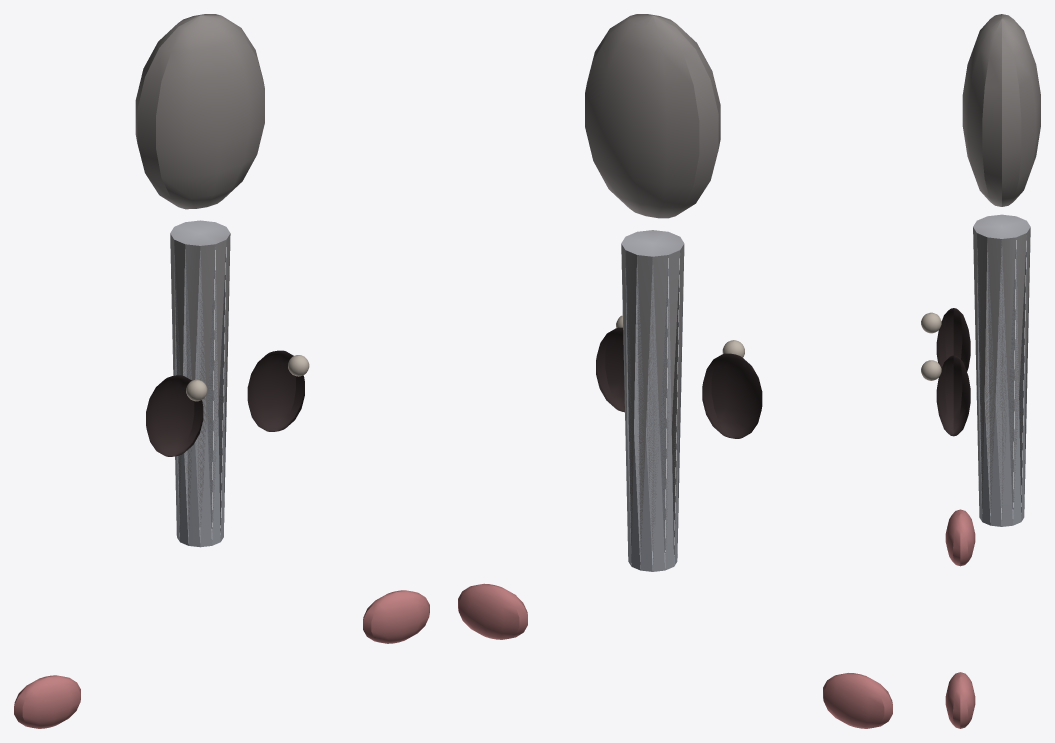
3 renders of one model, left to right at view 1: azimuth 30°, elevation 25°; view 2: azimuth 150°, elevation 25°; view 3: azimuth 270°, elevation 25°, orthographic. The views are drawn at different scales.
Parts seen in each view (by area): view 1: pet_p1e0d7ec1; view 2: pet_p1e0d7ec1; view 3: pet_p1e0d7ec1.
Boxes of the visible parts, x1=… form: pet_p1e0d7ec1: x1=14, y1=14, x2=429, y2=728; pet_p1e0d7ec1: x1=458, y1=14, x2=892, y2=728; pet_p1e0d7ec1: x1=921, y1=14, x2=1040, y2=728.
Bounding box in the file's own units: 0.2861 × 0.4296 × 0.0748.
